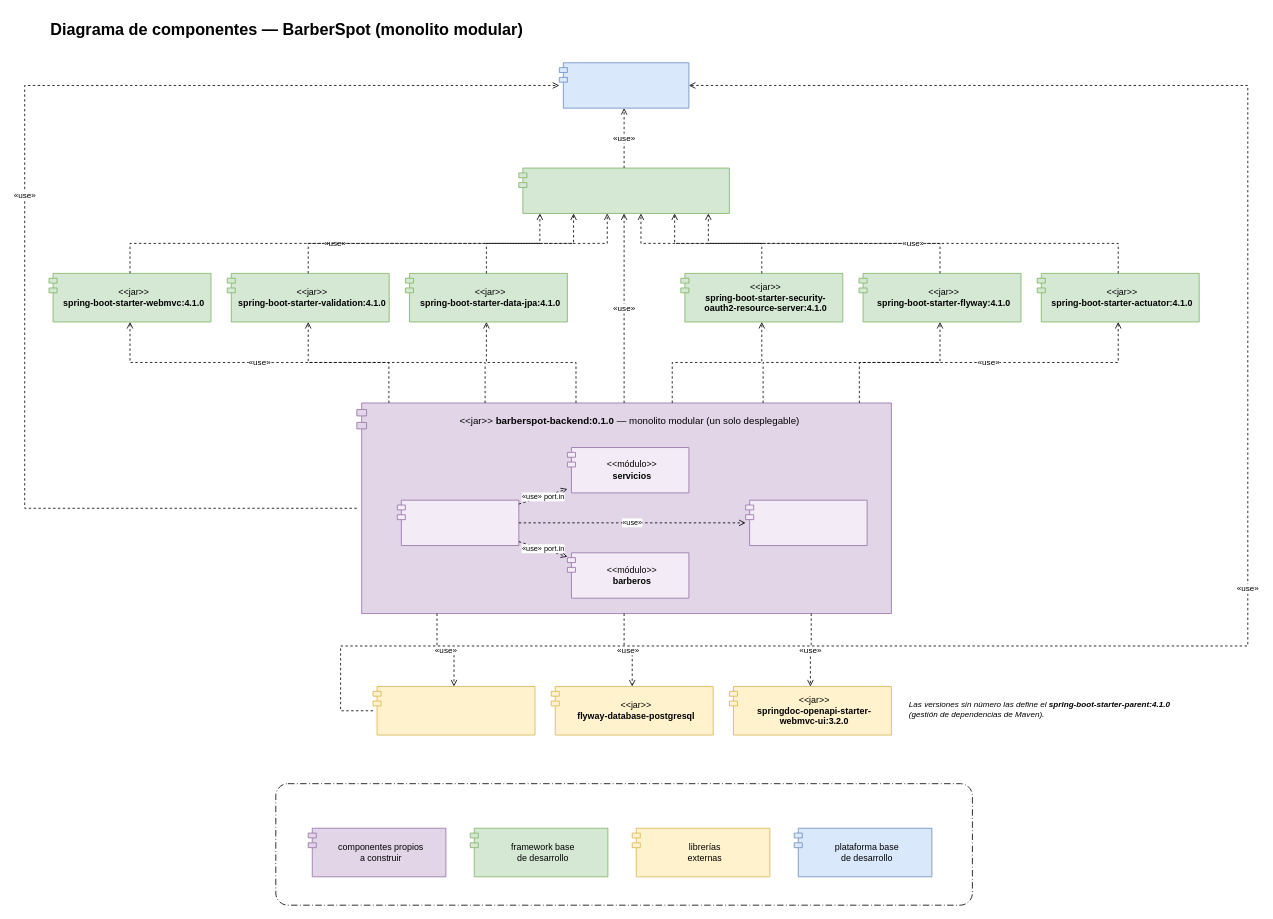
Some shapes in this 1273 by 919 pixel diagram are drawn without their labels. The shapes that lost their labels are listed below. From the top down, each one's box as (x1, y1, x2, y2) in pixels, then its label:
(558, 62, 689, 108): <<jre>> java:21
(518, 167, 729, 213): <<framework>> spring-boot-starter-parent:4.1.0
(396, 499, 519, 546): <<módulo>> citas
(745, 499, 867, 546): <<módulo>> shared
(372, 686, 535, 735): <<jar>> postgresql (driver JDBC)
(275, 783, 972, 905): Tipos de componentes
